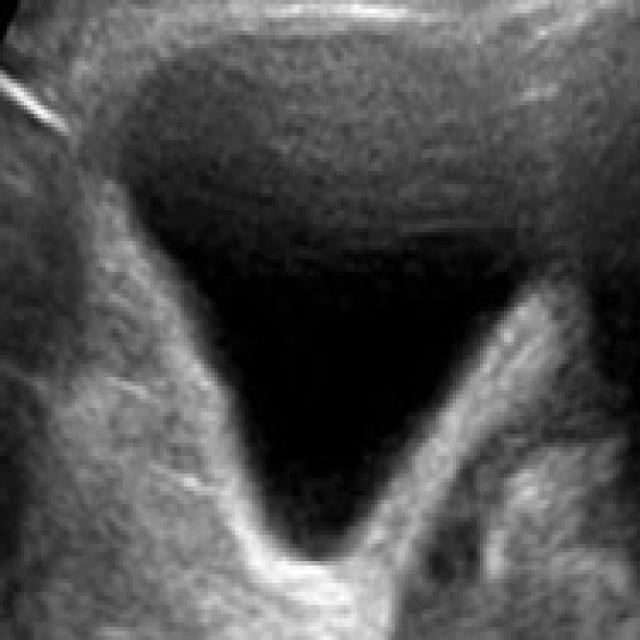bladder: (82, 16, 574, 616)
